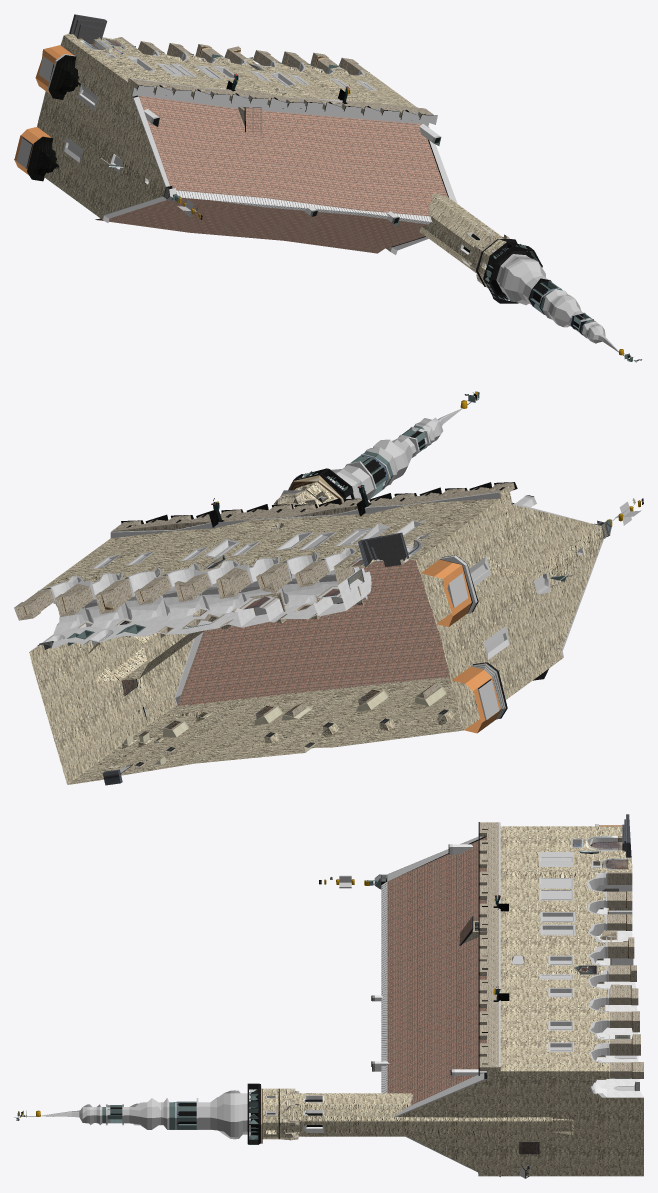
The model's file is Raekoja_Plats_1-origo.obj.
3 renders of one model, top to bottom at view 1: azimuth 30°, elevation 25°; view 2: azimuth 150°, elevation 25°; view 3: azimuth 270°, elevation 25°, orthographic. The views are drawn at different scales.
Visible parts, largest first — view 1: Raekoja_Plats_1; view 2: Raekoja_Plats_1; view 3: Raekoja_Plats_1.
Boxes of the visible parts, x1=… form: Raekoja_Plats_1: x1=14, y1=14, x2=641, y2=362; Raekoja_Plats_1: x1=14, y1=391, x2=643, y2=785; Raekoja_Plats_1: x1=14, y1=814, x2=643, y2=1178.
Size of the model in its own units: 41.31 by 28 by 64.56.
